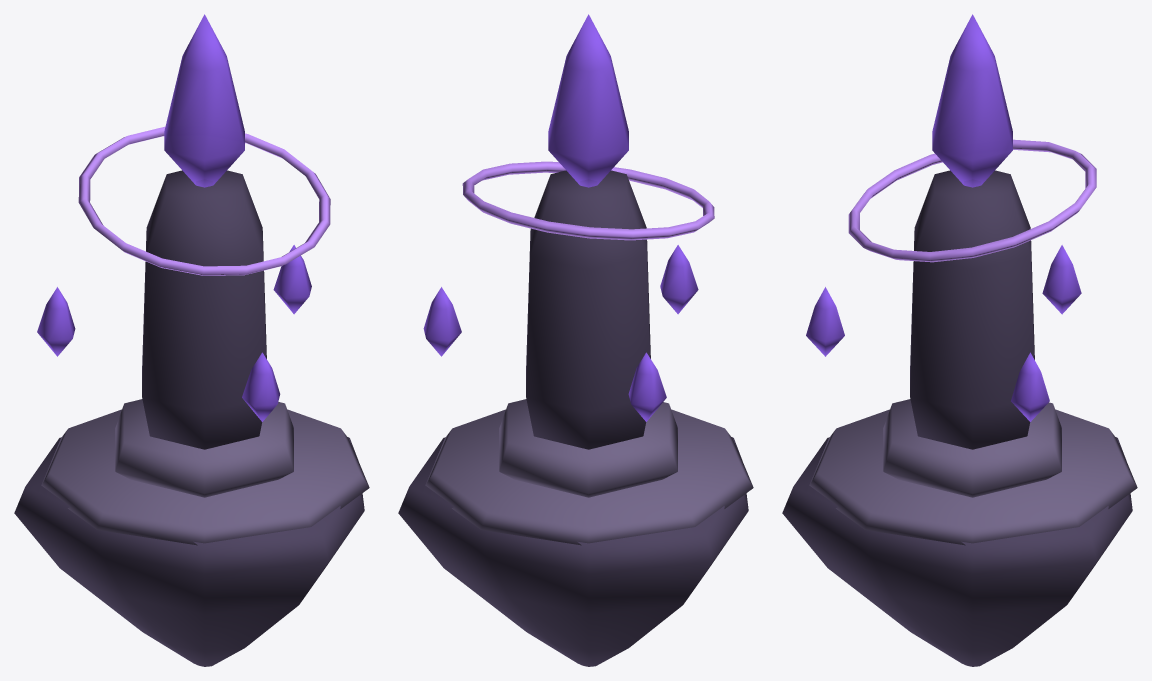
Rendered from unit_arcane_tower.obj.
The picture shows the model from 3 angles, left to right: view 1: azimuth 30°, elevation 25°; view 2: azimuth 150°, elevation 25°; view 3: azimuth 270°, elevation 25°; orthographic projection.
Parts seen in each view (by area): view 1: TowerBody, Rock, RockTop, TowerBase, TowerCrystal, TowerRing, Shard_2, Shard_1, Shard_0; view 2: TowerBody, Rock, RockTop, TowerBase, TowerCrystal, TowerRing, Shard_1, Shard_2, Shard_0; view 3: TowerBody, Rock, RockTop, TowerBase, TowerCrystal, TowerRing, Shard_1, Shard_2, Shard_0.
Boxes of the visible parts, <box> form: TowerBody: <box>142,170,266,449</box>; Rock: <box>14,437,364,666</box>; RockTop: <box>41,409,369,545</box>; TowerBase: <box>115,399,293,497</box>; TowerCrystal: <box>164,14,244,187</box>; TowerRing: <box>78,126,330,275</box>; Shard_2: <box>242,352,280,421</box>; Shard_1: <box>37,287,75,356</box>; Shard_0: <box>273,245,311,314</box>; TowerBody: <box>526,170,650,449</box>; Rock: <box>398,437,748,666</box>; RockTop: <box>425,409,753,545</box>; TowerBase: <box>499,399,677,497</box>; TowerCrystal: <box>548,14,628,187</box>; TowerRing: <box>462,161,714,240</box>; Shard_1: <box>628,352,666,421</box>; Shard_2: <box>660,245,698,314</box>; Shard_0: <box>423,287,461,356</box>; TowerBody: <box>910,170,1034,449</box>; Rock: <box>782,437,1132,666</box>; RockTop: <box>809,409,1137,545</box>; TowerBase: <box>883,399,1061,497</box>; TowerCrystal: <box>932,14,1012,187</box>; TowerRing: <box>848,139,1096,262</box>; Shard_1: <box>1042,245,1081,314</box>; Shard_2: <box>806,287,844,356</box>; Shard_0: <box>1011,352,1049,421</box>.
Size of the model in its own units: 2.79 by 5.55 by 2.76.
